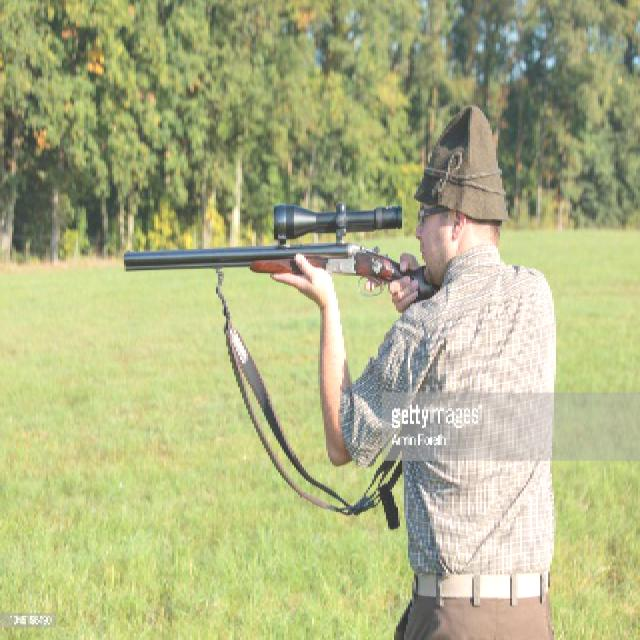long weapon: (106, 186, 430, 308)
